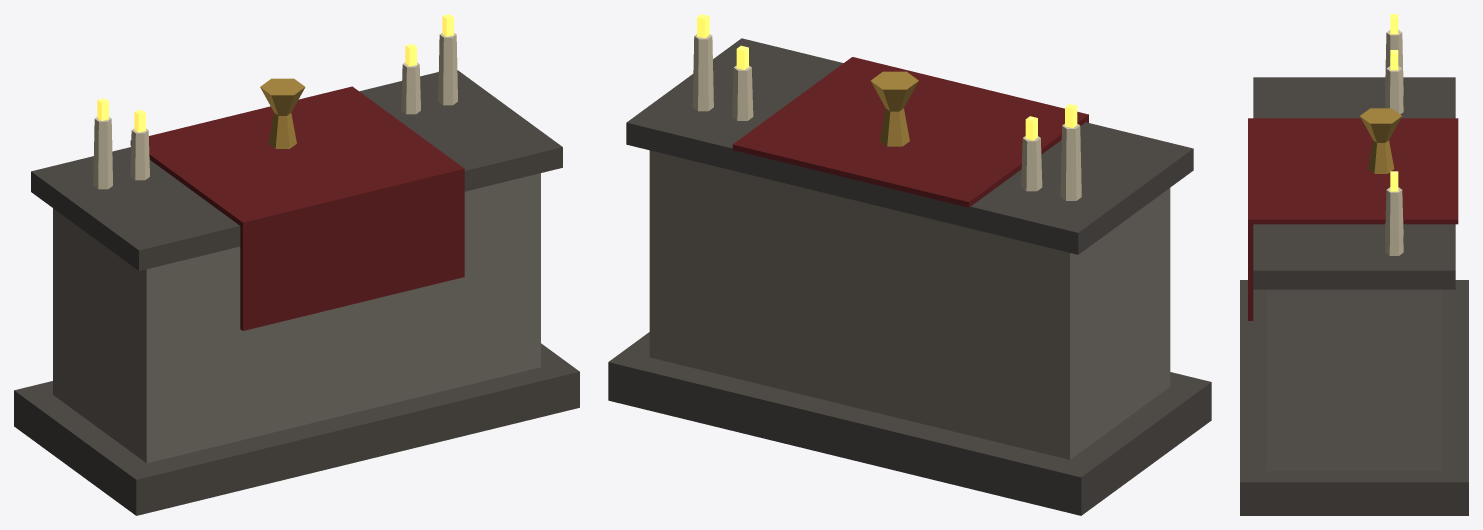
File: mas-altar.gltf
3 renders of one model, left to right at view 1: azimuth 30°, elevation 25°; view 2: azimuth 150°, elevation 25°; view 3: azimuth 270°, elevation 25°, orthographic. The views are drawn at different scales.
Visible parts, largest first — view 1: mas-altar; view 2: mas-altar; view 3: mas-altar.
Part boxes in pixels (x1,y1,x2,y2): mas-altar: (14, 14, 579, 515); mas-altar: (608, 14, 1211, 515); mas-altar: (1240, 14, 1468, 515).
Size of the model in its own units: 1.8 by 1.33 by 0.86.
